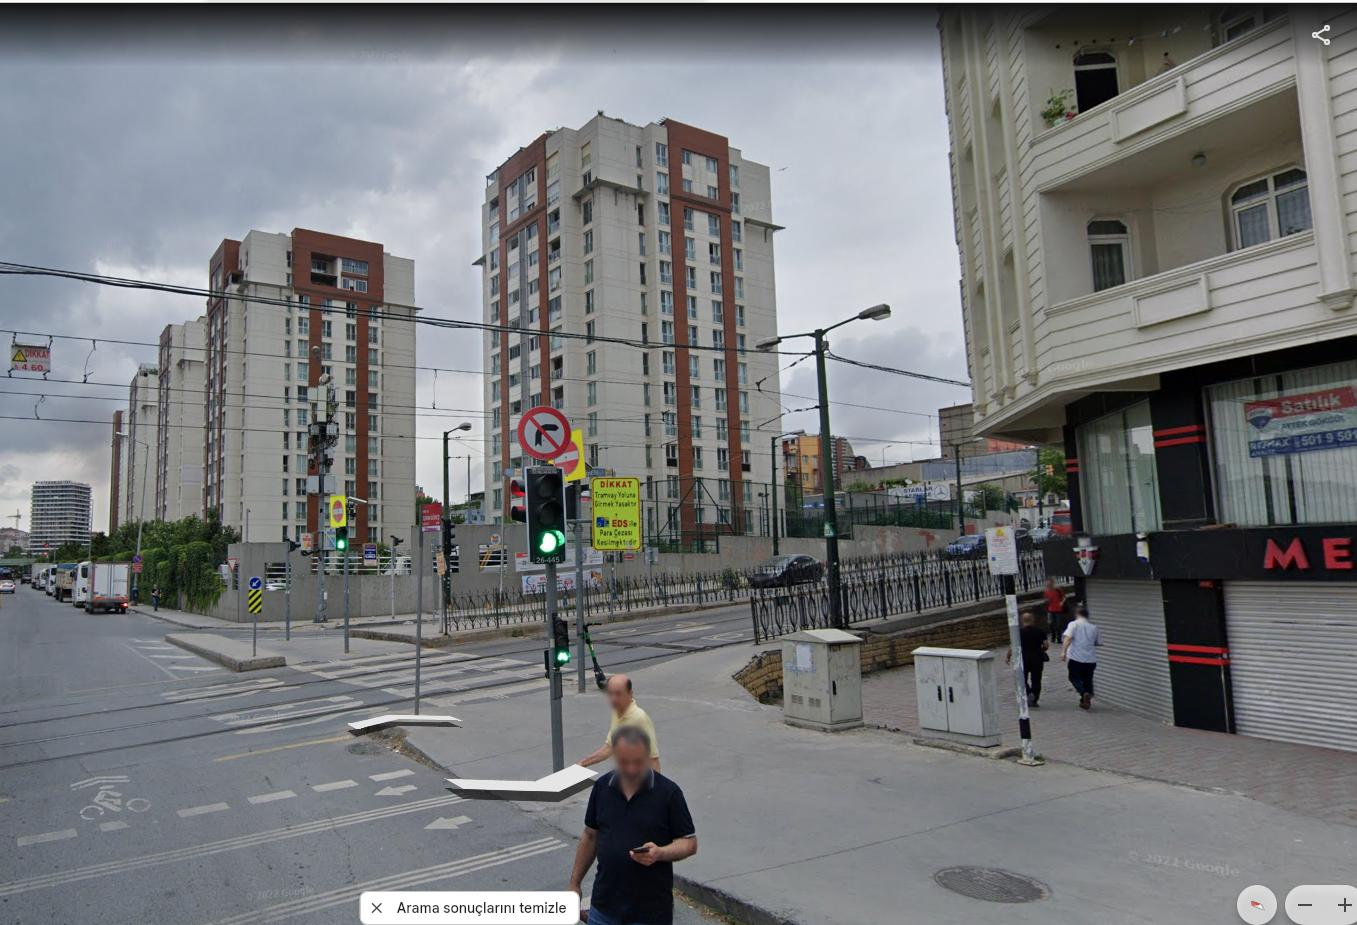greenlight: (529, 470, 567, 554), (554, 620, 571, 666)
rightturnsareforbidden: (518, 406, 574, 459)
